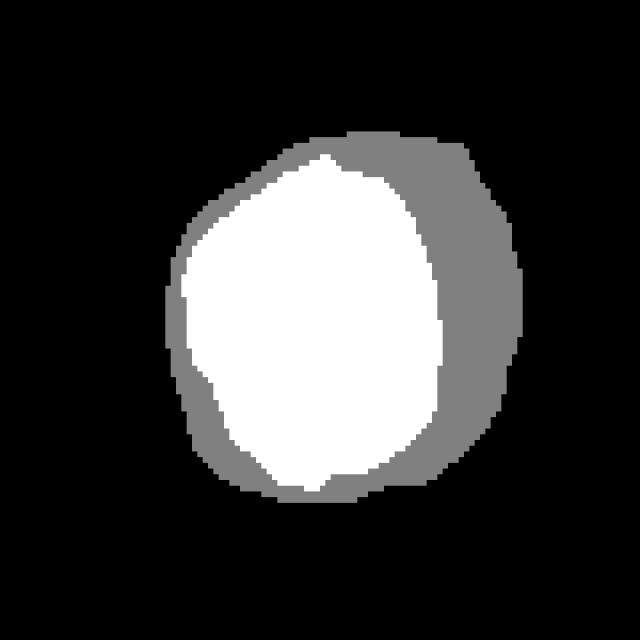WBC: (138, 86, 554, 520)
